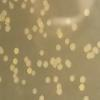white: (77, 83, 87, 93), (4, 25, 14, 35), (67, 41, 76, 52), (64, 59, 73, 70), (83, 42, 92, 53), (85, 51, 96, 60), (71, 23, 80, 33), (52, 63, 63, 71), (78, 74, 87, 83), (24, 59, 33, 68), (56, 28, 64, 38), (92, 45, 100, 55), (8, 0, 16, 10), (24, 66, 32, 76), (5, 16, 12, 26), (13, 75, 20, 85), (39, 24, 45, 35), (28, 68, 36, 76), (26, 32, 33, 41), (44, 75, 51, 84), (52, 75, 59, 84), (23, 55, 30, 64), (49, 57, 56, 66), (43, 59, 48, 71), (56, 44, 63, 52), (23, 27, 30, 35), (28, 7, 36, 14), (42, 4, 50, 11), (38, 10, 46, 17), (36, 17, 44, 24), (13, 47, 20, 55), (12, 57, 19, 65), (20, 79, 28, 86), (81, 95, 92, 100), (64, 38, 70, 47), (68, 74, 74, 83), (20, 1, 26, 10), (13, 66, 19, 75), (1, 10, 8, 17), (55, 82, 62, 89), (84, 9, 90, 17), (94, 40, 100, 48), (39, 49, 45, 57), (32, 25, 38, 33), (55, 57, 63, 63), (32, 87, 37, 96), (37, 60, 42, 69), (0, 45, 4, 56), (47, 19, 53, 26), (2, 55, 8, 62), (9, 64, 15, 71), (38, 94, 45, 100), (56, 89, 63, 95), (43, 32, 48, 40), (0, 14, 5, 22), (43, 0, 49, 5), (1, 0, 8, 4), (66, 19, 71, 24), (30, 0, 36, 4), (12, 74, 17, 78), (13, 0, 19, 3), (0, 76, 2, 85), (0, 23, 2, 31), (23, 0, 28, 2)
